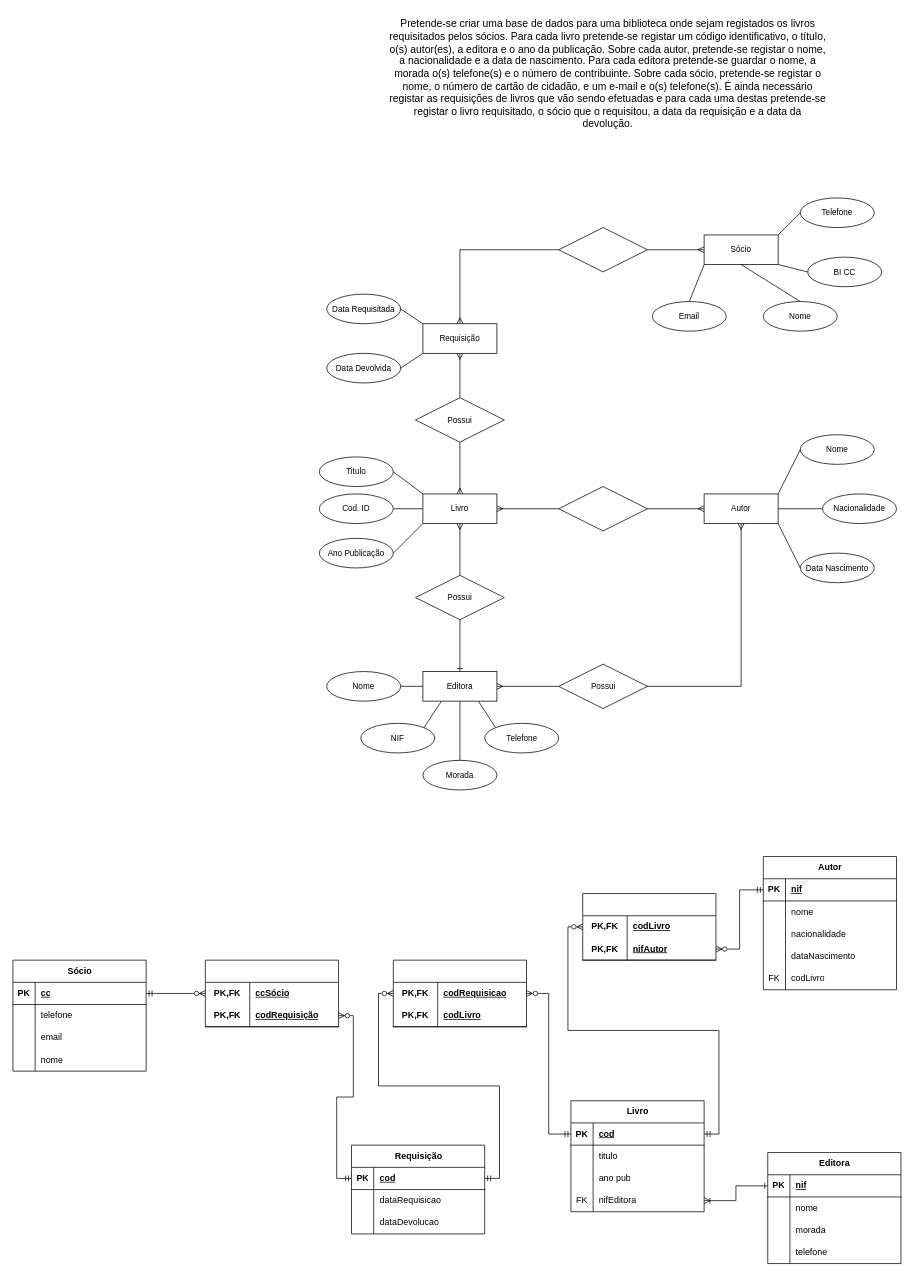
This 914x1277 diagram has some shape labels left out. The shapes that lost their labels are listed below. From the top down, each one's box as (x1, y1, x2, y2) in pixels, then its label:
(558, 227, 648, 272): Efetua/ Efetuada
(558, 486, 648, 531): Escreve/ Escrito
(582, 893, 716, 960): Livro_Autor
(205, 959, 339, 1027): Sócio_Requisiçao
(393, 959, 527, 1027): Requisição_Livro
